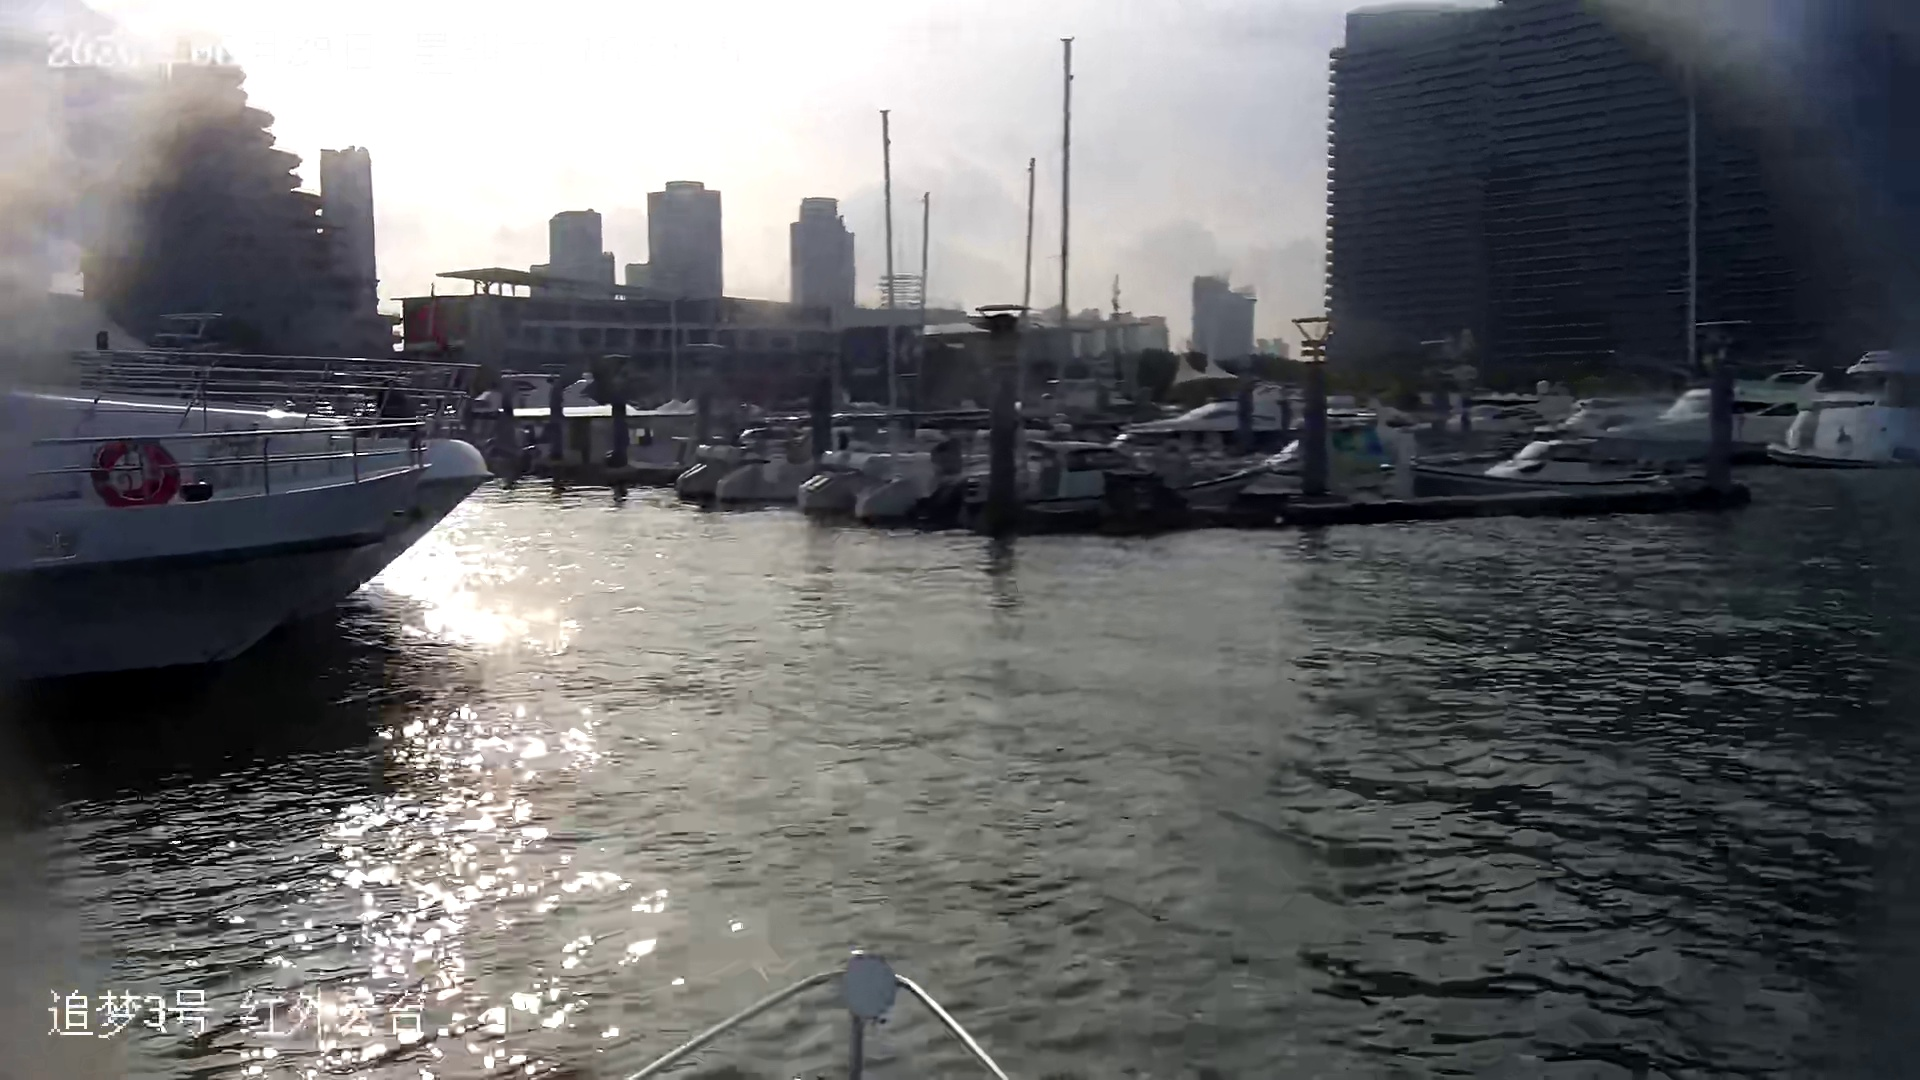barrier: (4, 357, 502, 659)
coast: (12, 1, 1920, 669)
